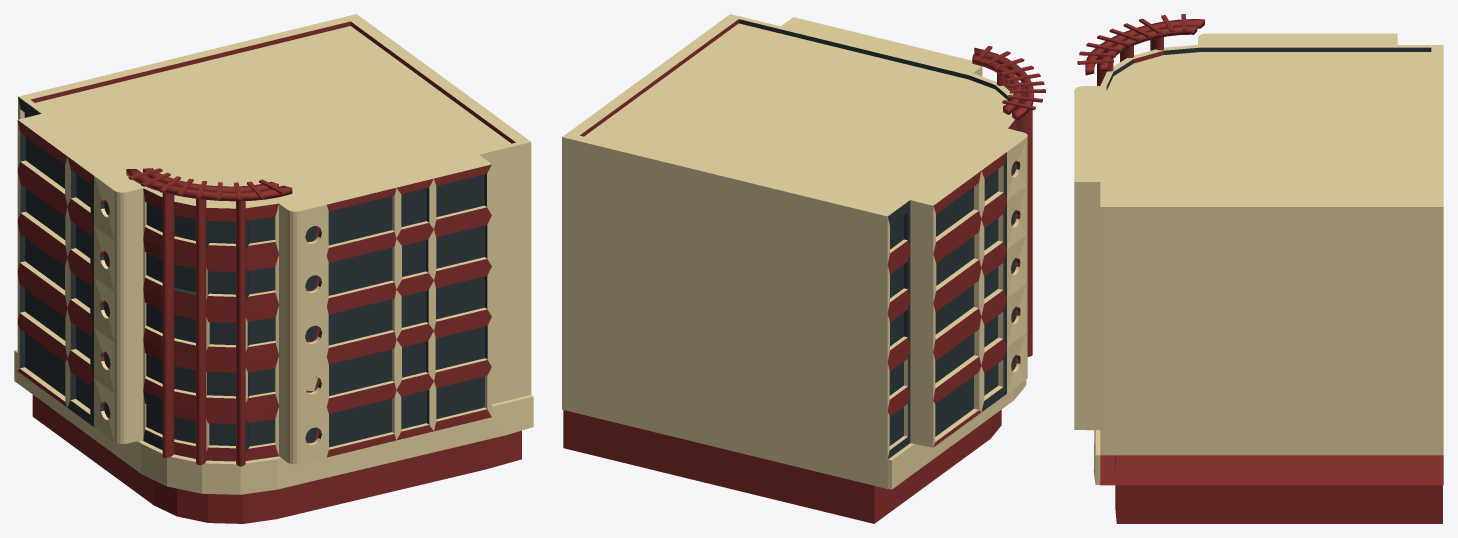
The model's file is boulevard_cafe.glb.
3 views of the same model, side by side, from view 1: azimuth 30°, elevation 25°; view 2: azimuth 150°, elevation 25°; view 3: azimuth 270°, elevation 25° (orthographic). The views are drawn at different scales.
Visible parts, largest first — view 1: Cube, Cylinder.002, Cylinder.001, Cylinder, Circle, Cube.003; view 2: Cube, Cylinder.002, Cube.003, Circle; view 3: Cube, Circle, Cube.003.
Boxes of the visible parts, left/top/right/bottom form: Cube: left=14, top=14, right=533, bottom=523; Cylinder.002: left=162, top=192, right=174, bottom=458; Cylinder.001: left=196, top=198, right=206, bottom=464; Cylinder: left=236, top=201, right=245, bottom=466; Circle: left=126, top=168, right=292, bottom=201; Cube.003: left=128, top=168, right=285, bottom=200; Cube: left=562, top=14, right=1027, bottom=523; Cylinder.002: left=1017, top=100, right=1032, bottom=356; Cube.003: left=975, top=46, right=1045, bottom=110; Circle: left=972, top=47, right=1033, bottom=120; Cube: left=1074, top=33, right=1443, bottom=523; Circle: left=1085, top=19, right=1204, bottom=75; Cube.003: left=1077, top=14, right=1186, bottom=64.
Size of the model in its own units: 8.02 by 7.3 by 7.2.
